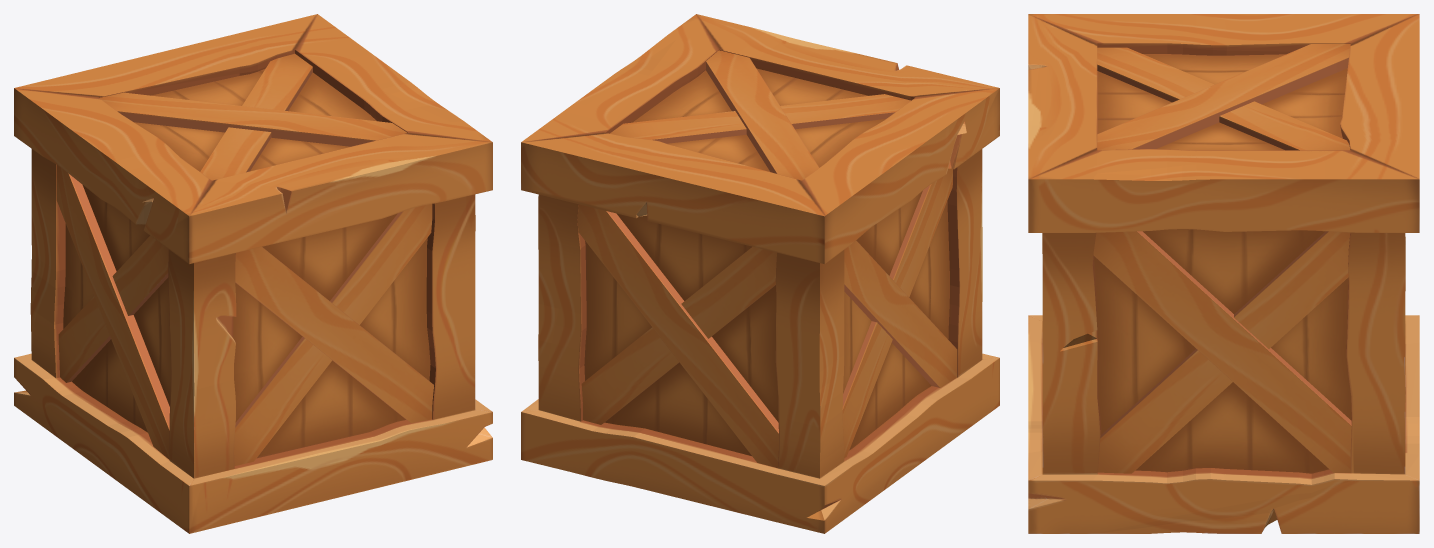
File: MainMenu kocka.fbx
3 renders of one model, left to right at view 1: azimuth 30°, elevation 25°; view 2: azimuth 150°, elevation 25°; view 3: azimuth 270°, elevation 25°, orthographic. The views are drawn at different scales.
Visible parts, largest first — view 1: Cube.002, Cube.008, Cube.006, Cube.010; view 2: Cube.002, Cube.009, Cube.006, Cube.010; view 3: Cube.002, Cube.003, Cube.010.
Boxes of the visible parts, bbox=[...] form: Cube.002: bbox=[14, 14, 492, 533]; Cube.008: bbox=[234, 204, 433, 465]; Cube.006: bbox=[56, 165, 169, 459]; Cube.010: bbox=[99, 53, 407, 180]; Cube.002: bbox=[521, 14, 999, 533]; Cube.009: bbox=[577, 204, 778, 467]; Cube.006: bbox=[842, 168, 957, 457]; Cube.010: bbox=[610, 50, 910, 180]; Cube.002: bbox=[1028, 14, 1419, 533]; Cube.003: bbox=[1093, 231, 1351, 473]; Cube.010: bbox=[1097, 44, 1350, 150].
Size of the model in its own units: 205 by 200 by 200.
Materials: 2 (2 with a texture image).
